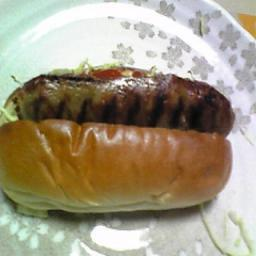hotdog: (0, 68, 234, 212)
